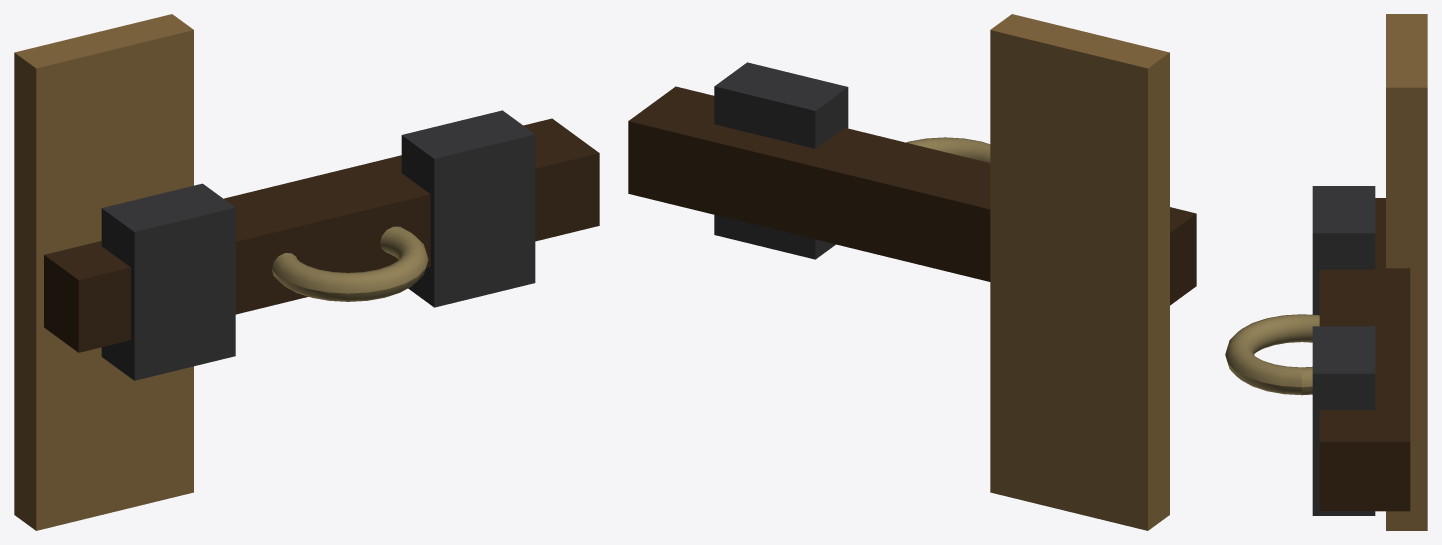
3 views of the same model, side by side, from view 1: azimuth 30°, elevation 25°; view 2: azimuth 150°, elevation 25°; view 3: azimuth 270°, elevation 25° (orthographic). The views are drawn at different scales.
Parts seen in each view (by area): view 1: OBJ-003 — DEMO NON_VALIDE; view 2: OBJ-003 — DEMO NON_VALIDE; view 3: OBJ-003 — DEMO NON_VALIDE.
Part boxes in pixels (bbox=[...]): OBJ-003 — DEMO NON_VALIDE: bbox=[14, 14, 599, 530]; OBJ-003 — DEMO NON_VALIDE: bbox=[628, 14, 1196, 530]; OBJ-003 — DEMO NON_VALIDE: bbox=[1225, 14, 1427, 530].
Size of the model in its own units: 2 by 1.67 by 0.6925.
